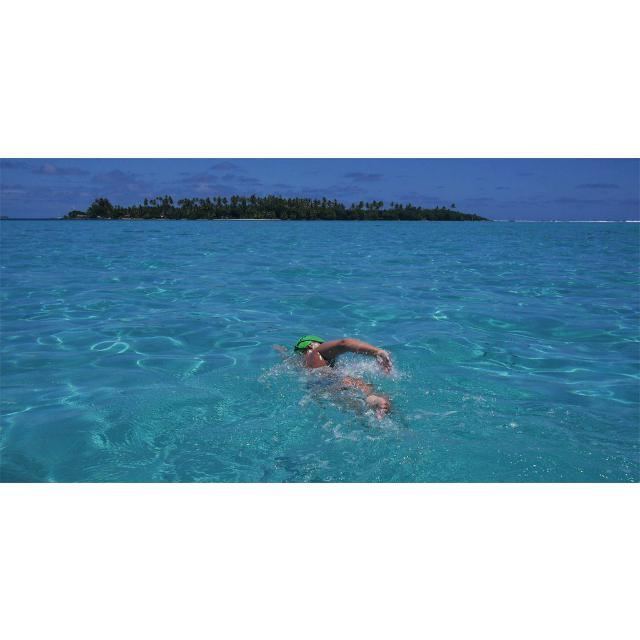human: (273, 327, 403, 425)
